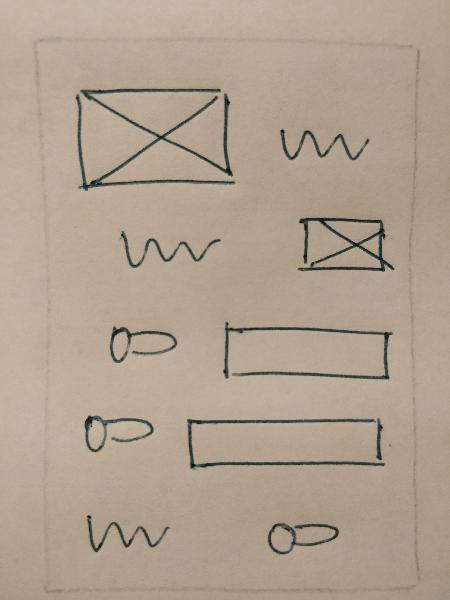image: (67, 79, 242, 203), (290, 205, 399, 290)
switch: (94, 312, 184, 375), (77, 408, 167, 471), (257, 502, 347, 565)
text: (104, 218, 226, 279), (271, 112, 372, 177), (76, 502, 181, 562)
text_input: (177, 403, 394, 478), (215, 314, 398, 389)
